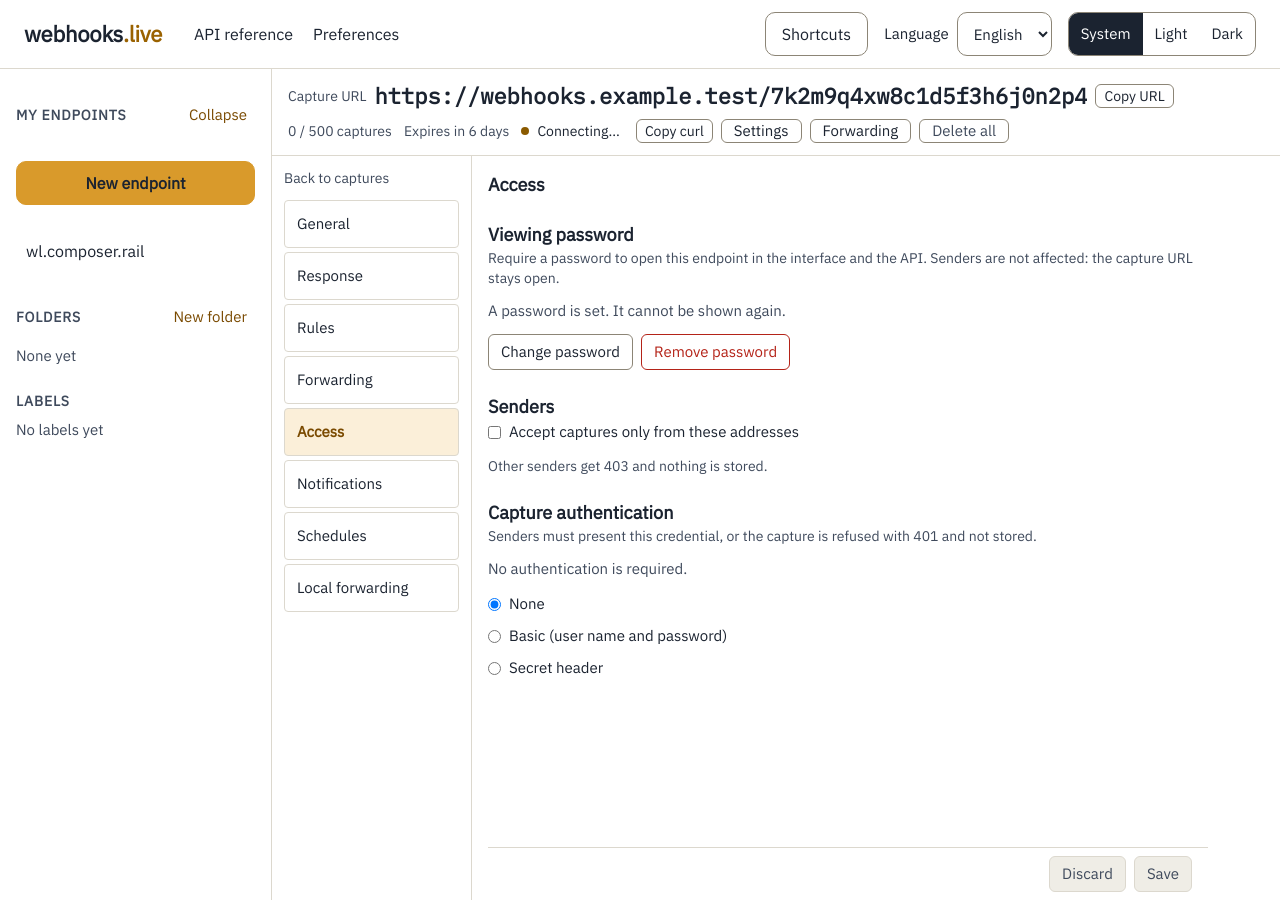
viewing password › removes a set password with null
Click the button "Remove password": (716, 352) [641,334,790,370]
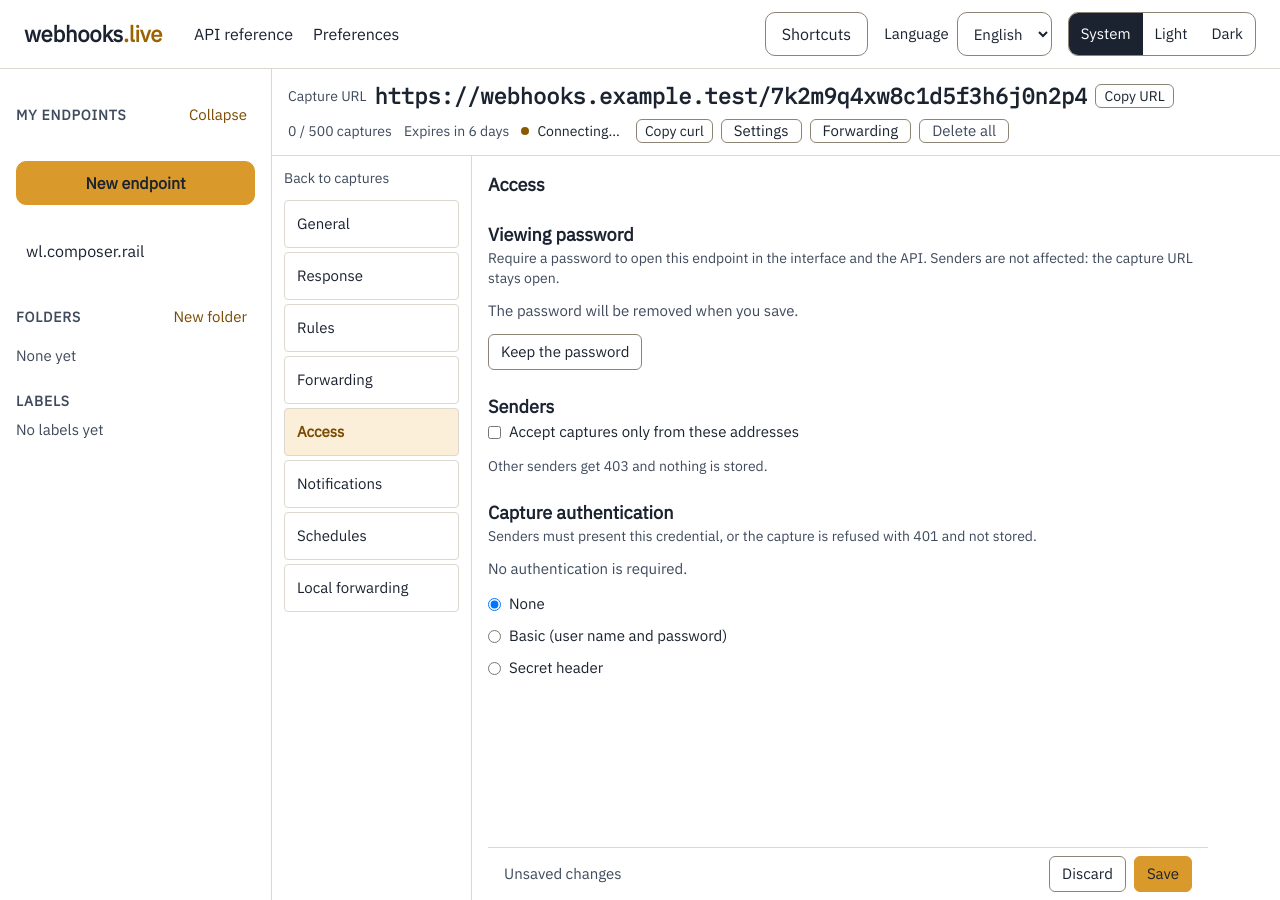
Now the text "The password will be removed when you save." is shown, box [488,301,798,320]
Click the button "Save": (1163, 874) [1134,856,1192,892]
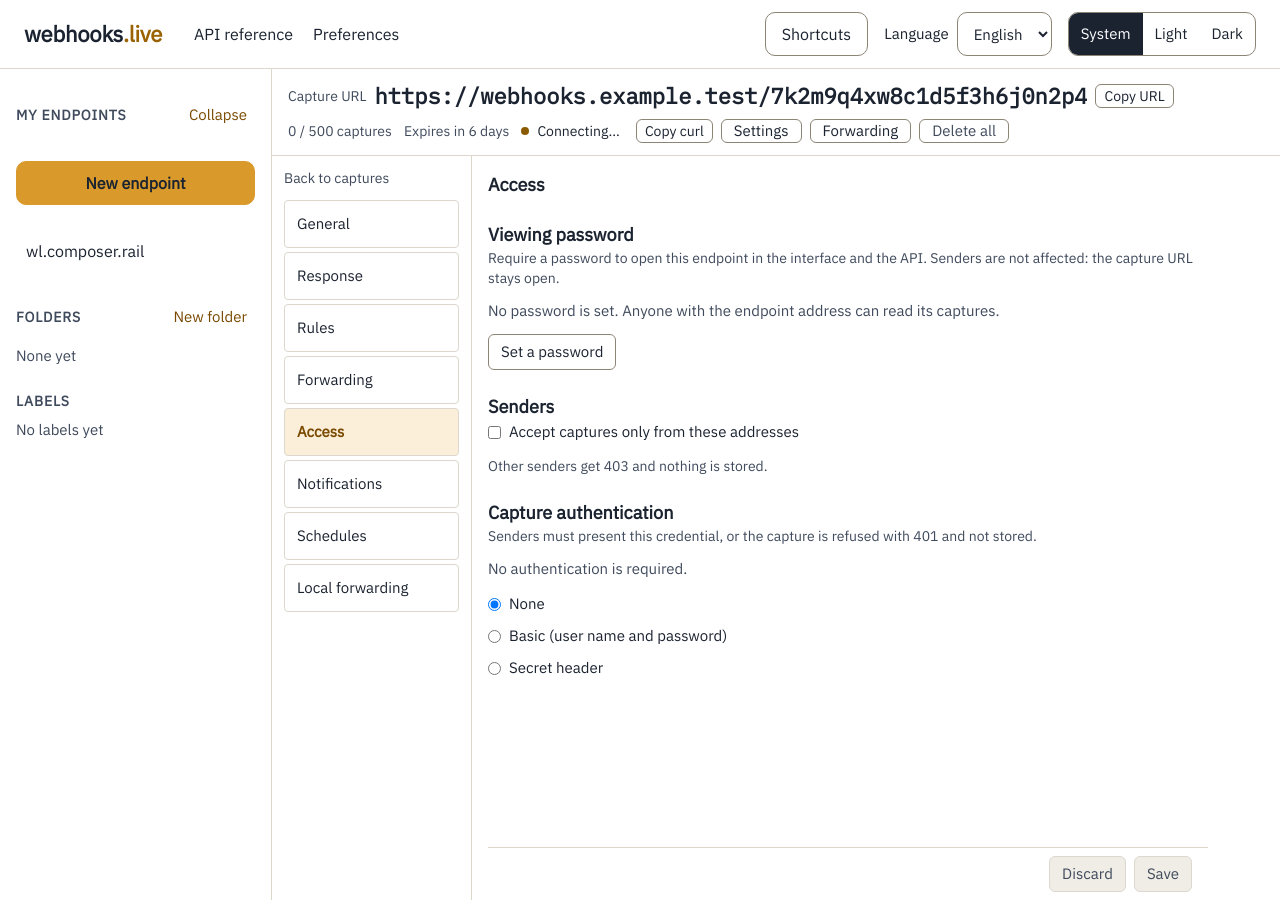
Now the text "No password is set. Anyone with the endpoint address can read its captures." is shown, box [488,301,1000,320]
